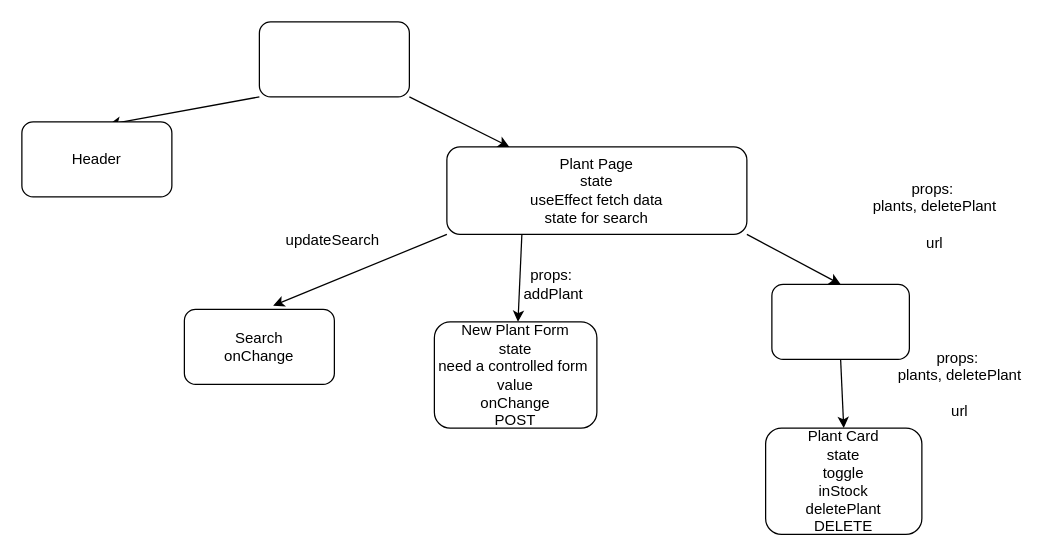
The diagram is 1056 pixels wide and 556 high, and some of its shapes have lost their labels. The shapes that lost their labels are listed below. From the top down, each one's centre as x and y in pixels, then its label:
At (x=333, y=59): "App".
At (x=840, y=321): "Plant List plants.map(plant)".
